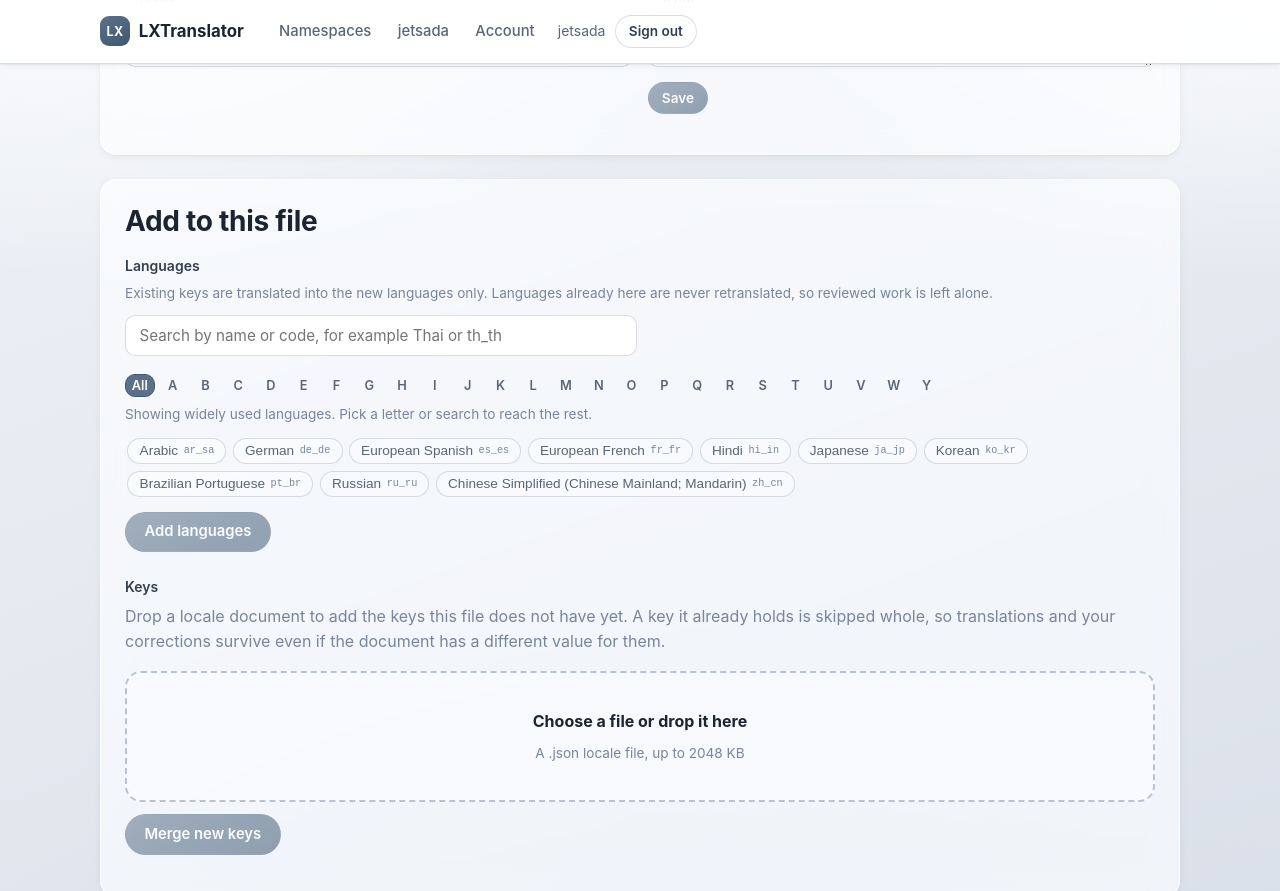
Test case: translation editor › adding languages › sends the chosen languages and reloads
The image size is (1280, 891).
(page scrolled)
Expected: the heading "Add to this file" is shown, [125,204,317,239]
What coordinates should you click on to do the following:
click the button "Japanese ja_jp"
I would click on:
 (857, 451)
Its box is [798,438,917,464].
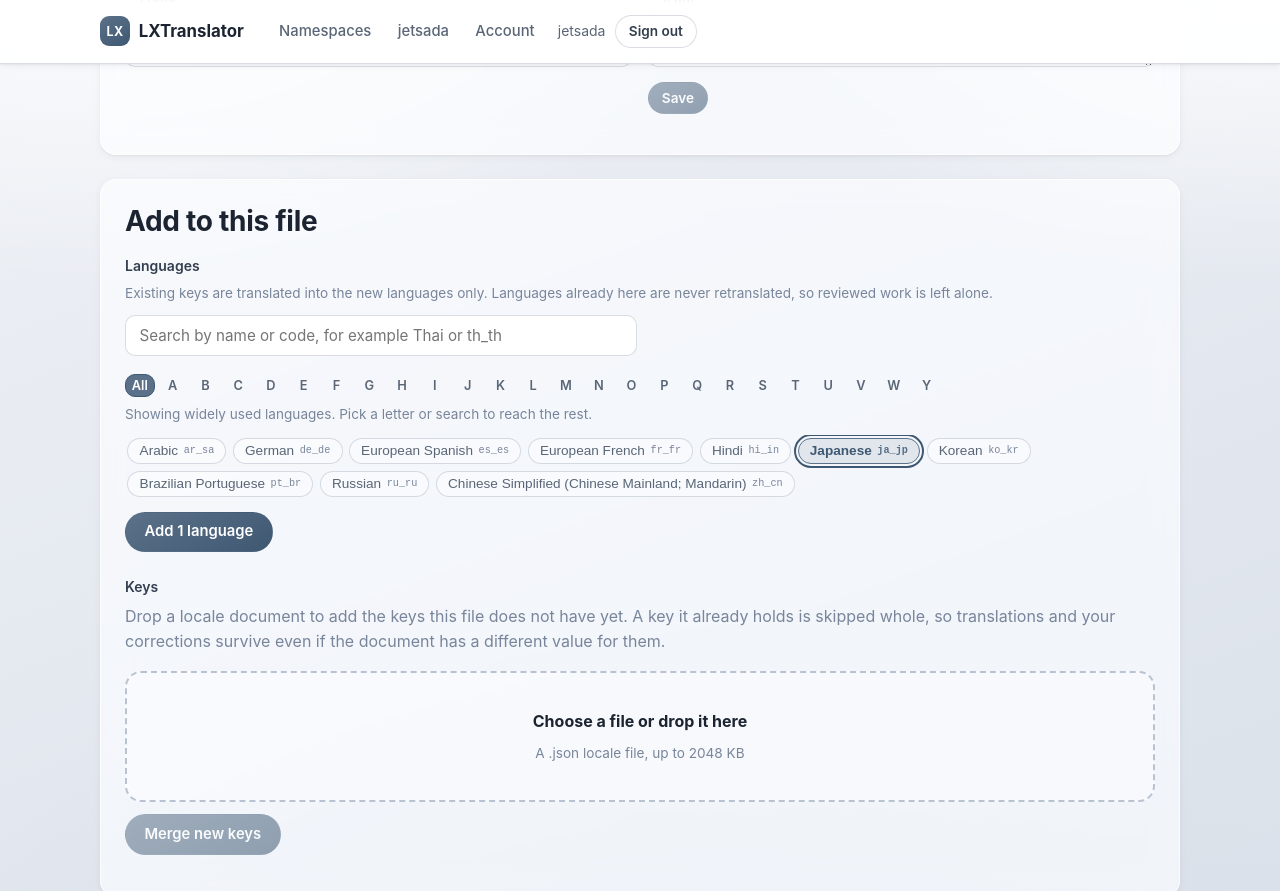
What coordinates should you click on to do the following:
click the button "Add 1 language"
I would click on:
 (199, 532)
Its box is [125,512,273,552].
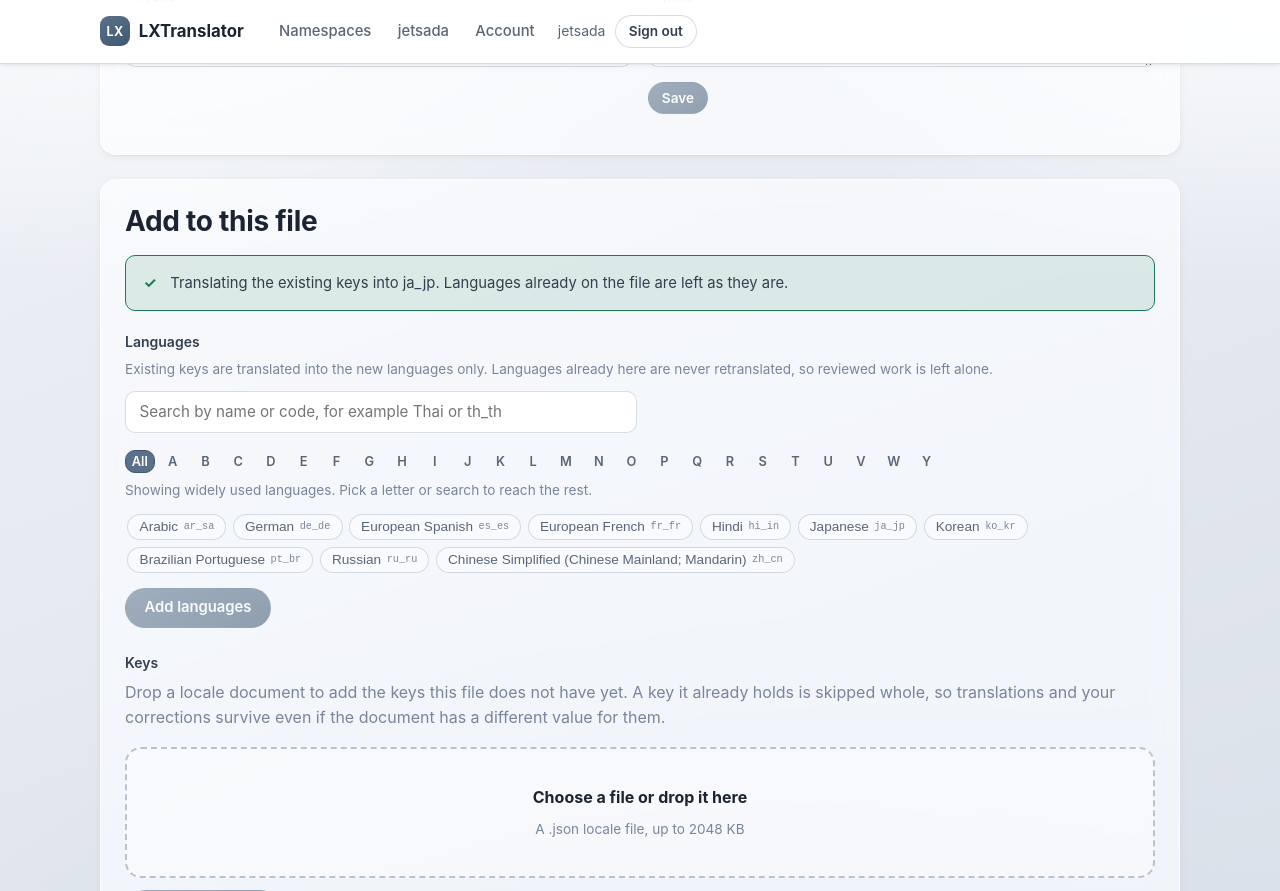
Result: the text "Languages already on the file are left" is shown at [170,274,788,292]
